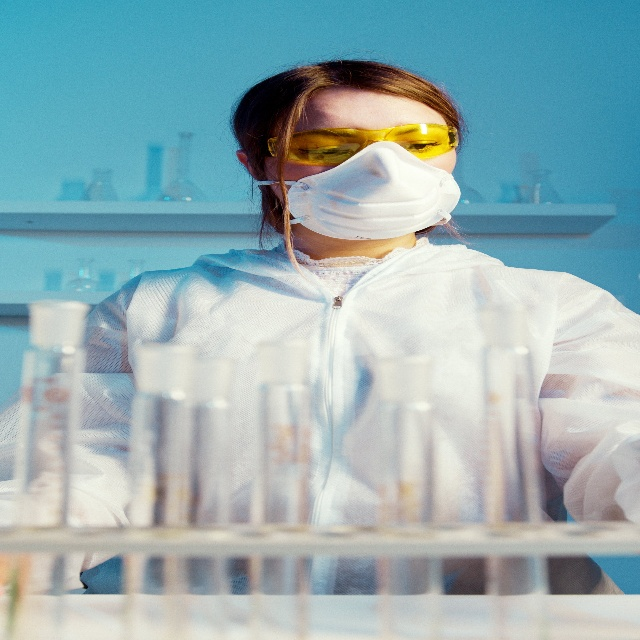Gafas: (268, 110, 461, 169)
Mascara: (284, 138, 461, 236)
